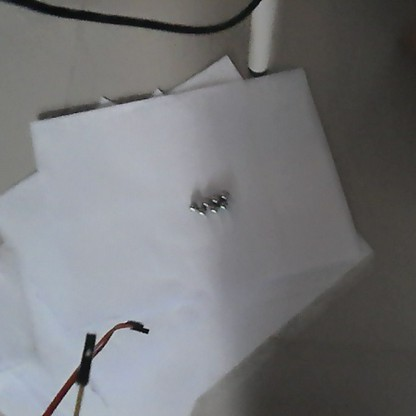ironball: (182, 196, 200, 214), (194, 201, 208, 219), (217, 199, 232, 213), (218, 187, 231, 201), (208, 203, 221, 216), (208, 192, 222, 203), (198, 195, 211, 206)
